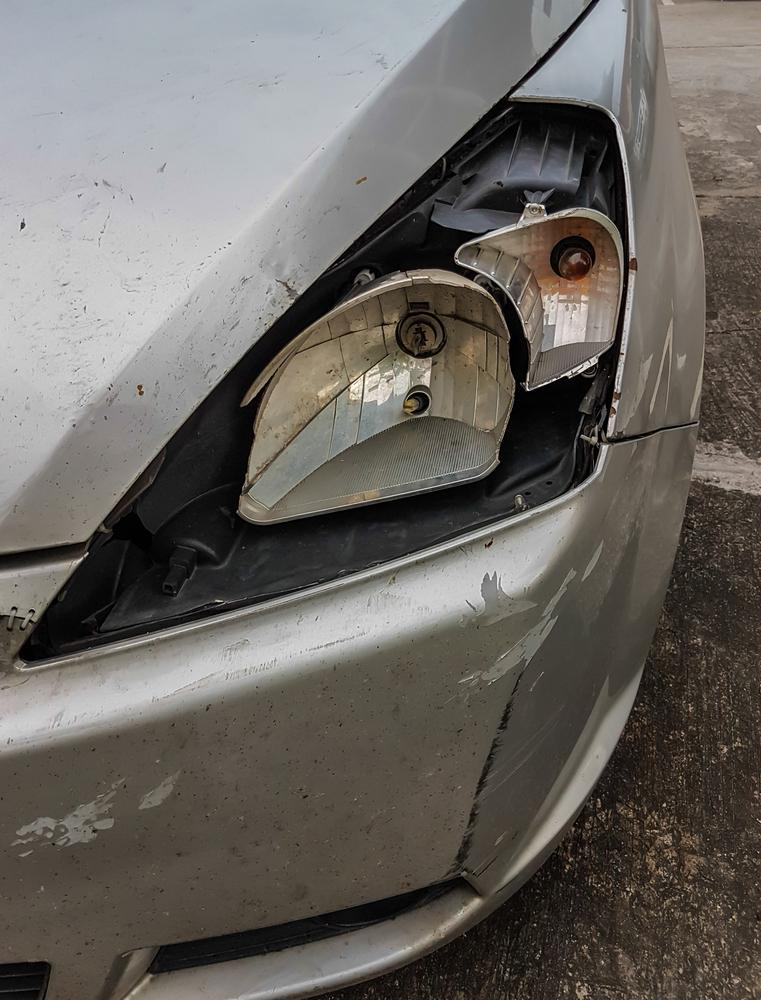lamp broken: (17, 100, 630, 663)
scratch: (434, 539, 608, 875), (0, 768, 186, 863)
